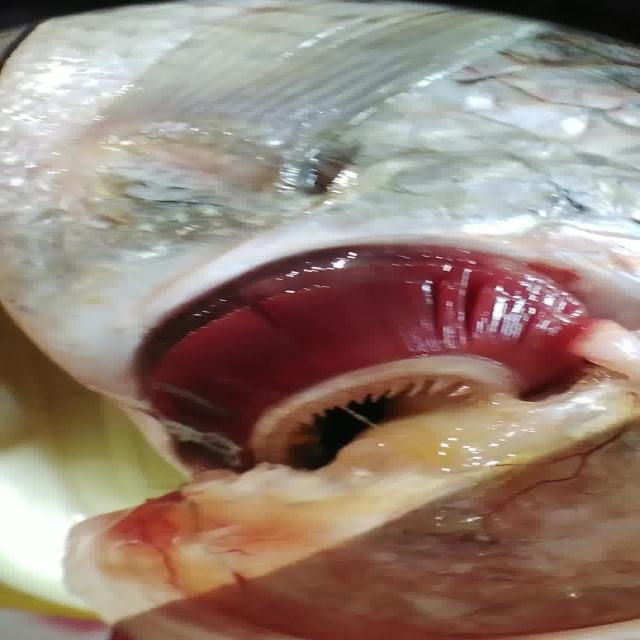Fresh: (81, 239, 626, 423)
